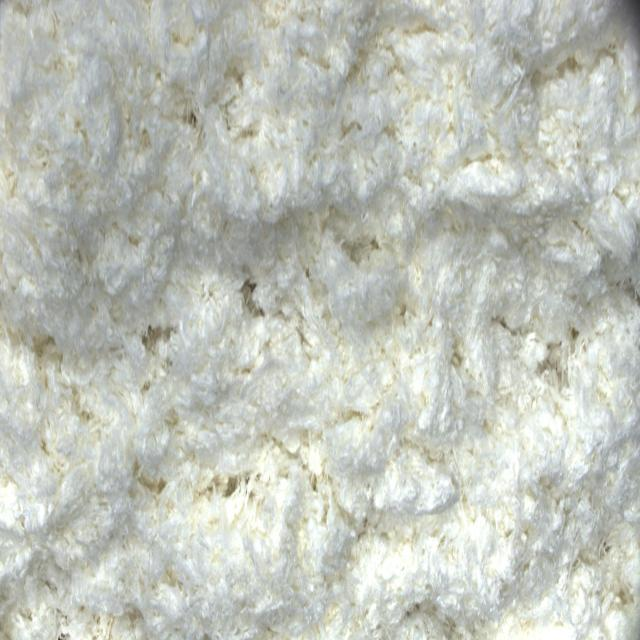dust: (232, 275, 269, 334), (136, 327, 174, 358), (550, 327, 566, 400), (223, 465, 250, 507)
